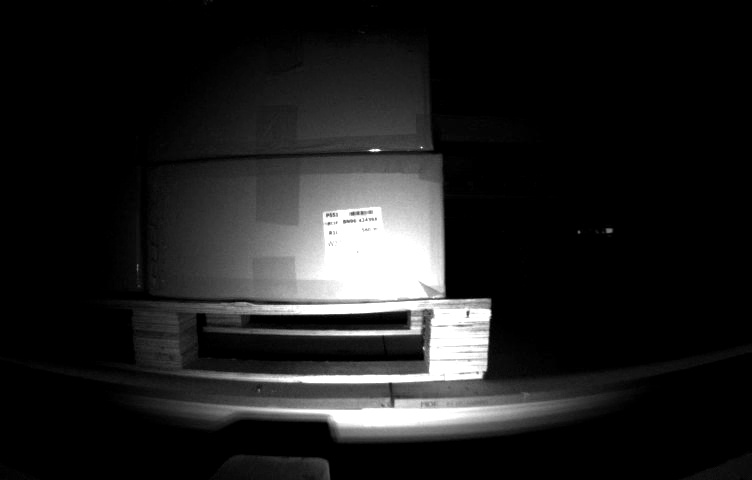True Barcode: (320, 207, 390, 268)
